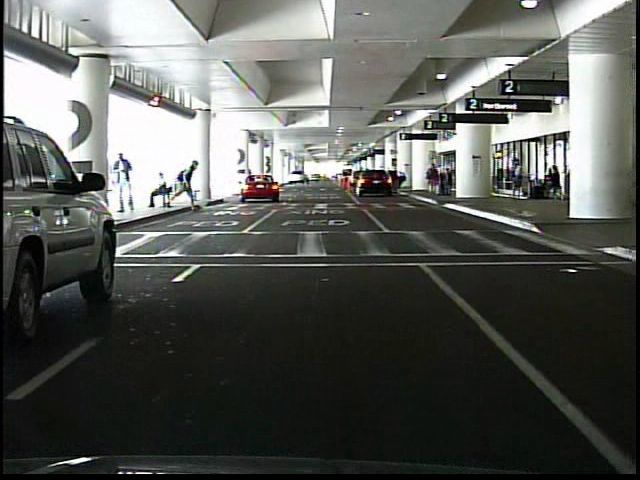person: (172, 159, 206, 211), (116, 153, 135, 214), (147, 171, 170, 209), (425, 163, 441, 198), (512, 157, 525, 199), (447, 165, 448, 195)
